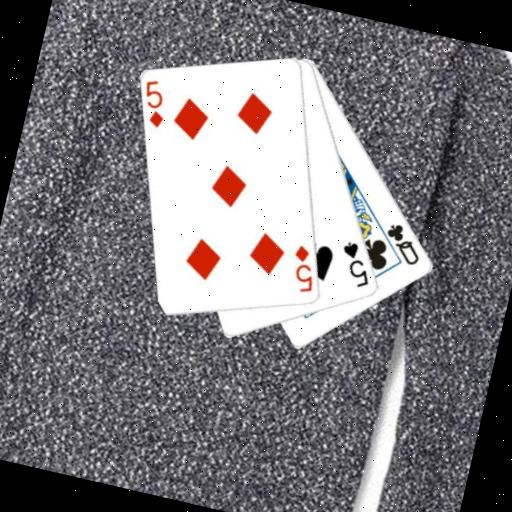5D: (283, 241, 324, 297), (134, 75, 175, 131)
5S: (332, 237, 379, 292)
QC: (377, 218, 428, 269)
